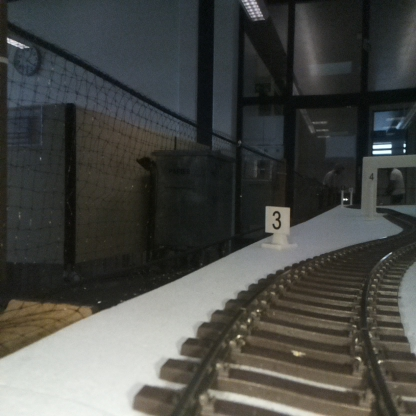white-info-4: (365, 168, 378, 220)
white-stop-3: (265, 207, 290, 246)
